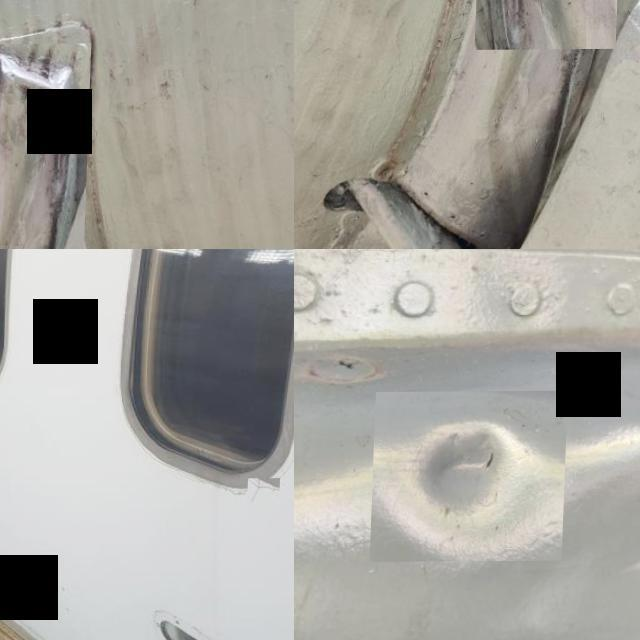Crack: (250, 479, 284, 507)
Dent: (373, 391, 570, 562), (0, 44, 92, 249), (477, 0, 624, 50), (597, 517, 640, 602)
